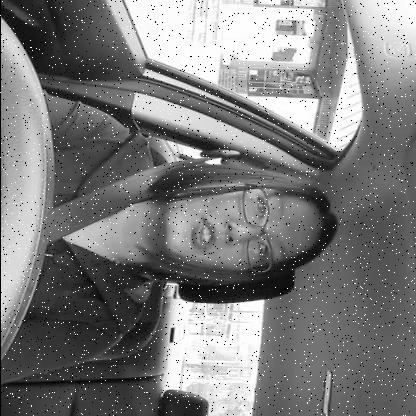seatbelt: (40, 137, 344, 304)
